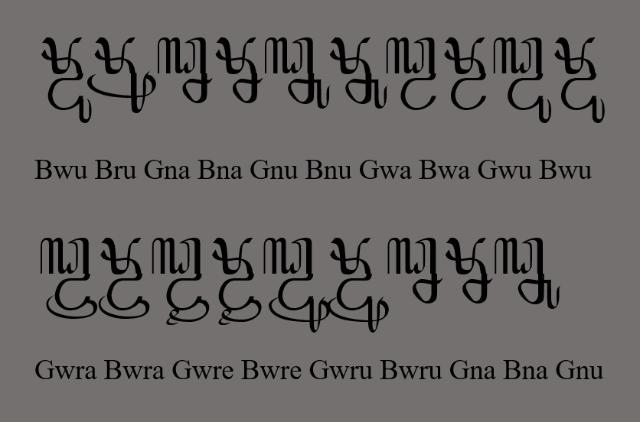Bn: (444, 237, 494, 305), (214, 37, 264, 104)
Bnu: (329, 36, 388, 110)
Bru: (87, 36, 157, 114)
Bw: (444, 37, 486, 111)
Bwr: (98, 237, 150, 321)
Bwre: (212, 237, 262, 327)
Bwru: (328, 237, 390, 334)
Bwu: (554, 37, 606, 125), (42, 36, 92, 124)
Gn: (157, 37, 213, 105), (387, 237, 443, 305)
Gnu: (263, 36, 331, 110), (493, 237, 561, 311)
Gw: (387, 36, 438, 112)
Gwr: (38, 237, 98, 321)
Gwre: (150, 238, 210, 326)
Gwru: (262, 237, 330, 333)
Gwu: (492, 36, 552, 124)
